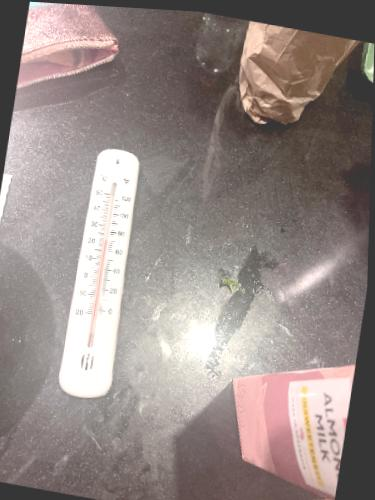thermo: (53, 145, 153, 399)
